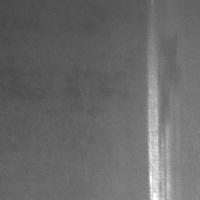scratches: (147, 44, 172, 200)
